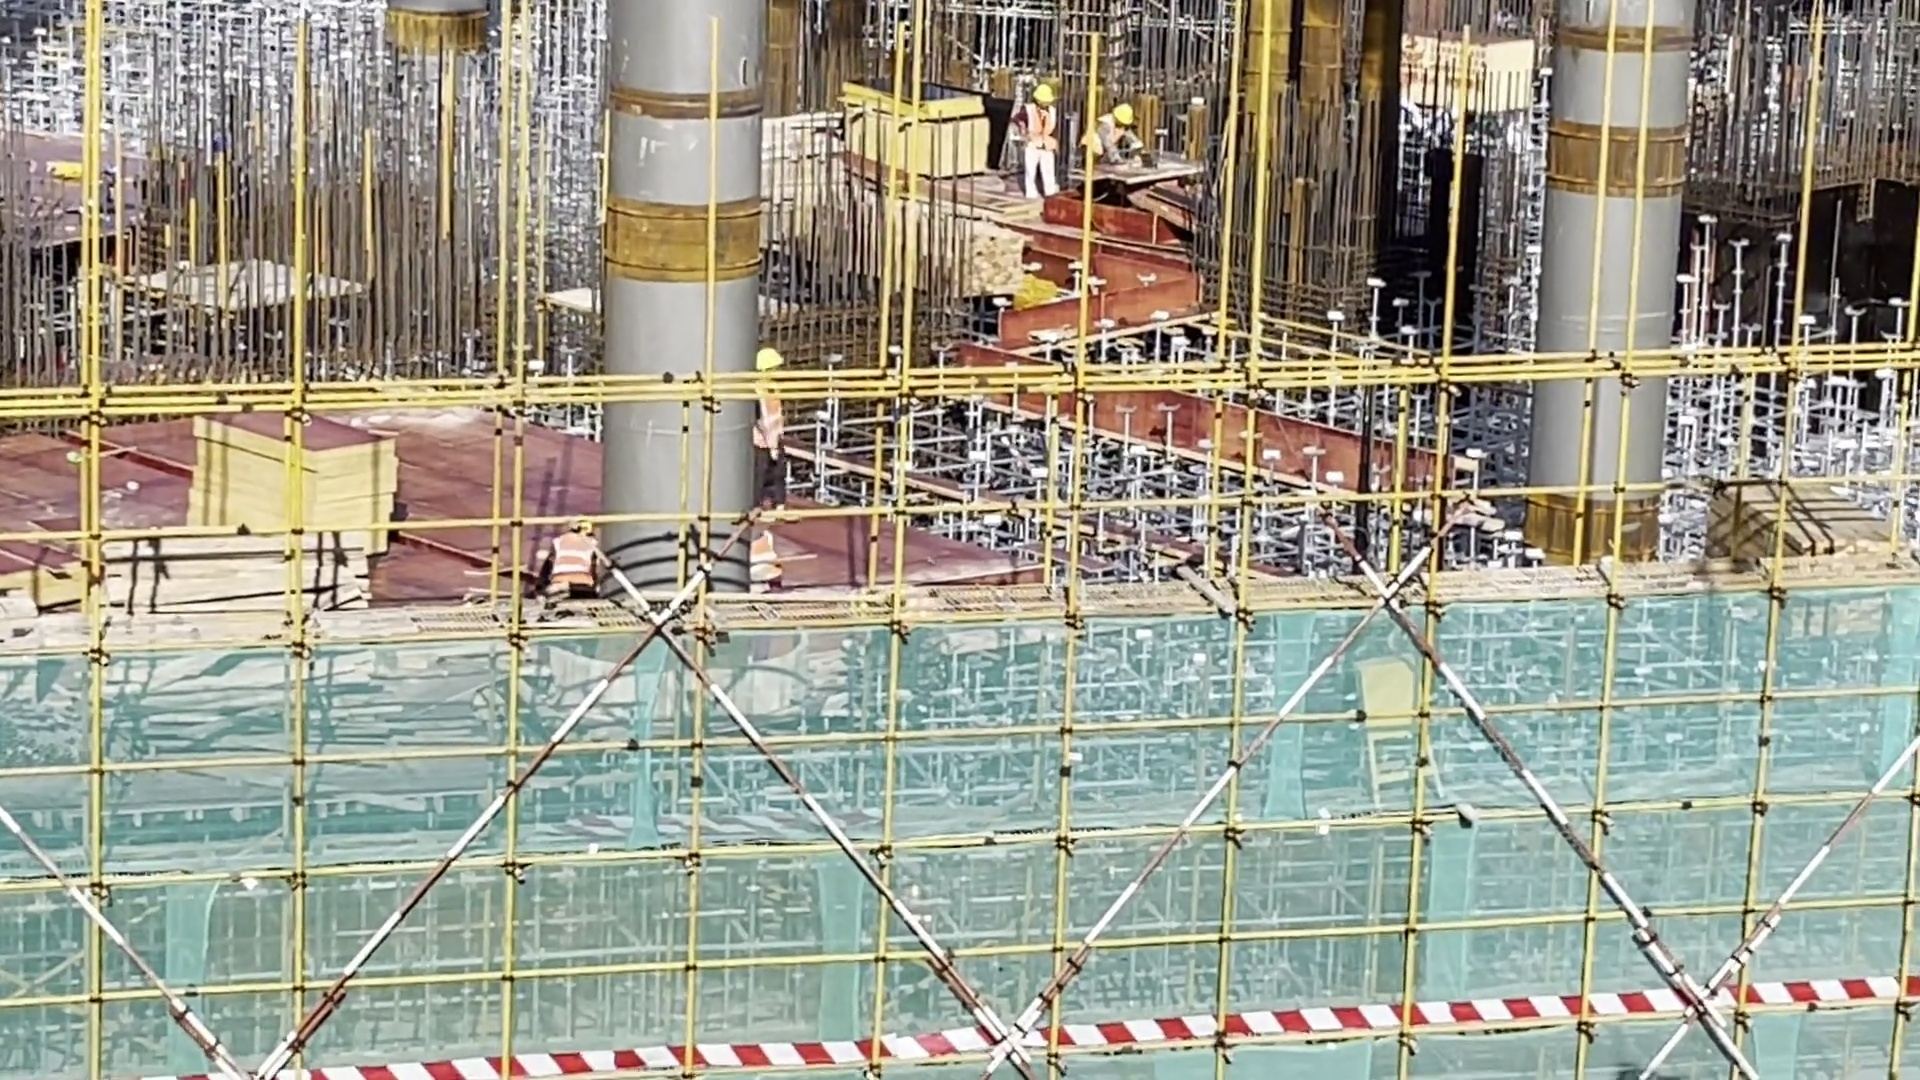board: (186, 402, 405, 568), (1710, 465, 1887, 587), (822, 70, 988, 190)
ebox: (1354, 648, 1458, 817)
helmet: (1111, 103, 1140, 132), (755, 347, 784, 371), (1033, 83, 1058, 107), (570, 514, 593, 538)
person: (533, 509, 601, 608), (1012, 77, 1063, 204), (755, 347, 794, 502), (1083, 102, 1148, 184)
vest: (739, 516, 800, 611), (542, 523, 598, 604), (755, 374, 792, 462), (1023, 103, 1061, 154)
wood: (108, 524, 362, 657)
